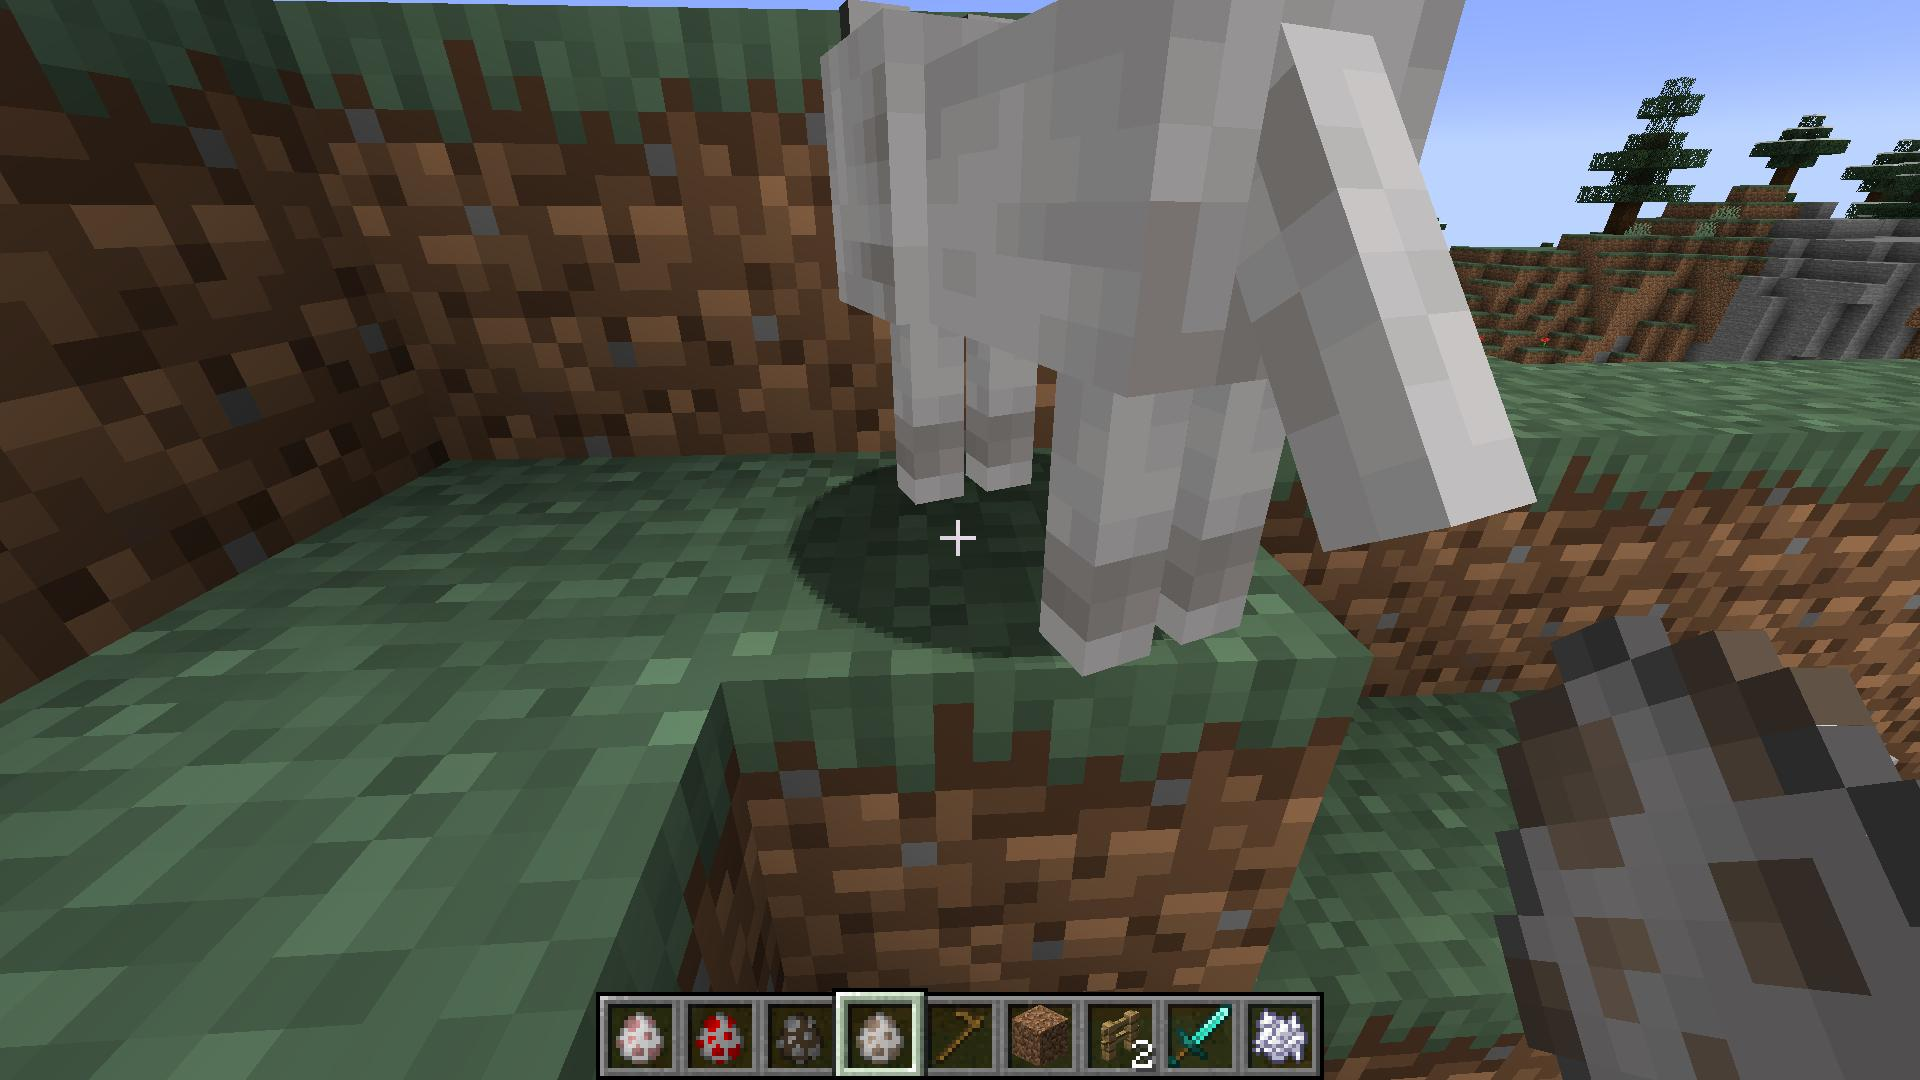wolf: (814, 0, 1548, 686)
